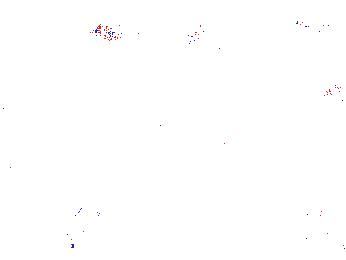X-ray fish: (216, 181, 240, 217)
glassfish: (63, 172, 119, 254), (146, 115, 238, 156)
red belly glassfish: (91, 25, 145, 43), (293, 18, 327, 35), (324, 87, 346, 108), (189, 24, 208, 44)
